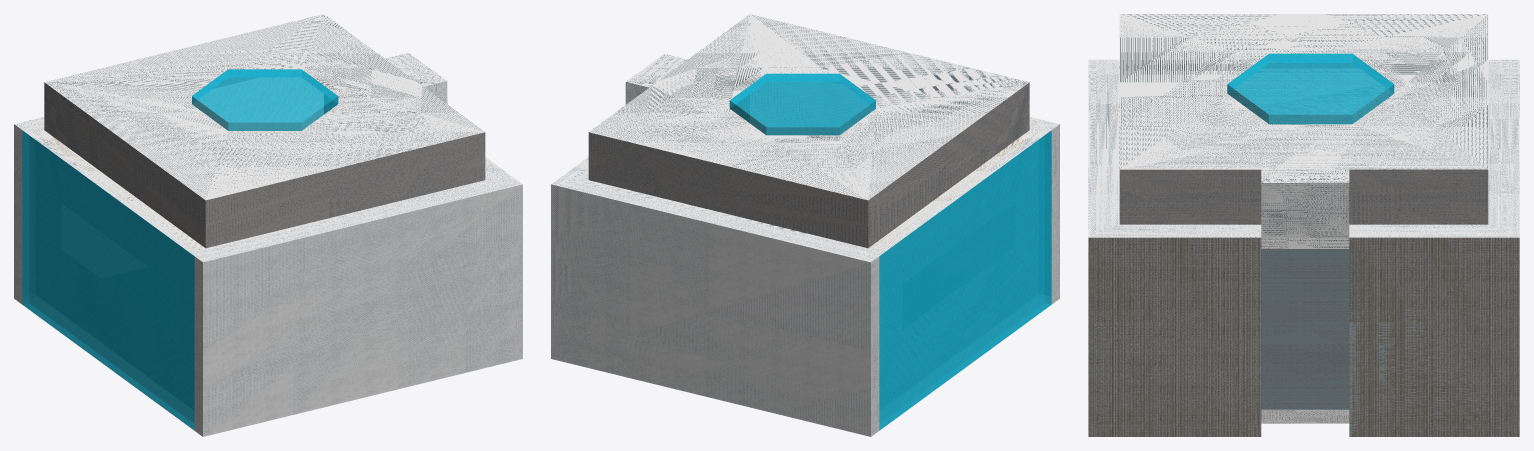
Rendered from PlanRm1.glb.
3 views of the same model, side by side, from view 1: azimuth 30°, elevation 25°; view 2: azimuth 150°, elevation 25°; view 3: azimuth 270°, elevation 25° (orthographic). The views are drawn at different scales.
Parts seen in each view (by area): view 1: Asset3DLoader.sceneRoot; view 2: Asset3DLoader.sceneRoot; view 3: Asset3DLoader.sceneRoot.
Boxes of the visible parts, left/top/right/bottom form: Asset3DLoader.sceneRoot: left=14, top=14, right=522, bottom=436; Asset3DLoader.sceneRoot: left=551, top=14, right=1059, bottom=436; Asset3DLoader.sceneRoot: left=1088, top=14, right=1519, bottom=436.
Size of the model in its own units: 349 by 241 by 357.
12 materials, 10 textured.
